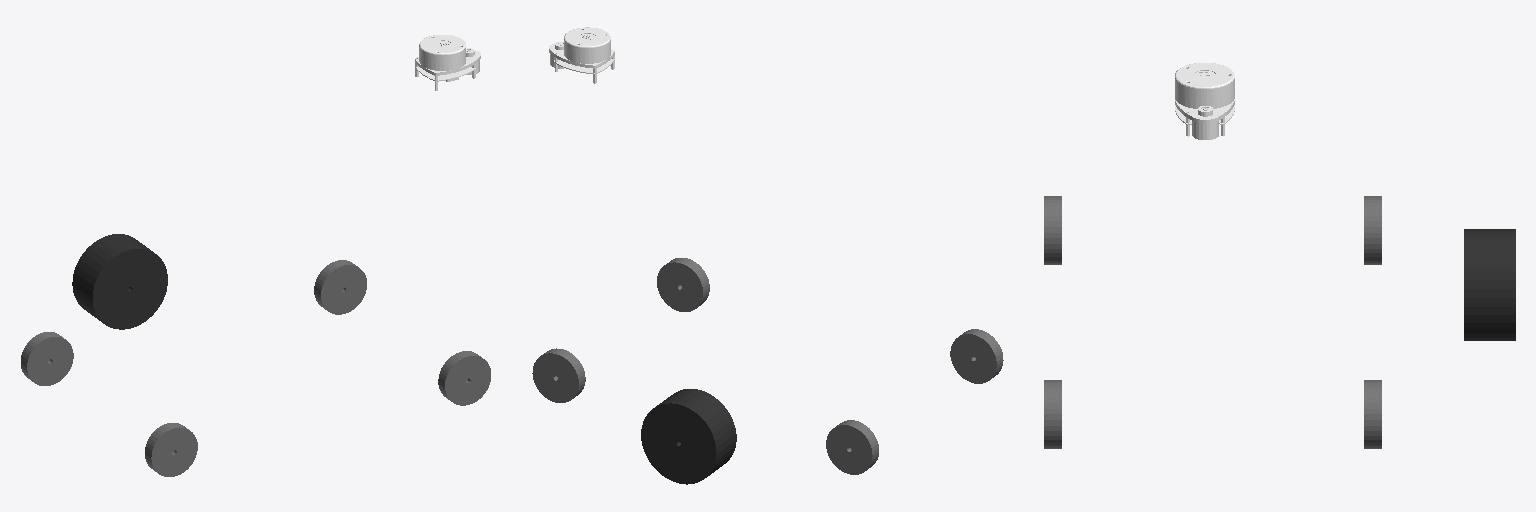
The robot description file, URDF, robot "Chassis_diffrential_assembly_v2.SLDPRT":
<?xml version="1.0" encoding="utf-8"?>
<!-- This URDF was automatically created by SolidWorks to URDF Exporter! Originally created by [author] ([email redacted]) 
     Commit Version: 1.6.0-4-g7f85cfe  Build Version: 1.6.7995.38578
     For more information, please see http://wiki.ros.org/sw_urdf_exporter -->
<robot
  name="Chassis_diffrential_assembly_v2.SLDPRT">
  <link
    name="base_link">
    <inertial>
      <origin
        xyz="0.0080711 0.0008587 0.16048"
        rpy="0 0 0" />
      <mass
        value="30.168" />
      <inertia
        ixx="0.60427"
        ixy="-0.12444"
        ixz="0.010189"
        iyy="1.0841"
        iyz="0.0042376"
        izz="1.4144" />
    </inertial>
    <visual>
      <origin
        xyz="0 0 0"
        rpy="0 0 0" />
      <geometry>
        <mesh
          filename="package://Chassis_diffrential_assembly_v2.SLDPRT/meshes/base_link.STL" />
      </geometry>
      <material
        name="">
        <color
          rgba="0.50196 0.50196 0.50196 1" />
      </material>
    </visual>
    <collision>
      <origin
        xyz="0 0 0"
        rpy="0 0 0" />
      <geometry>
        <mesh
          filename="package://Chassis_diffrential_assembly_v2.SLDPRT/meshes/base_link.STL" />
      </geometry>
    </collision>
  </link>
  <link
    name="LEFT_wheel_drive">
    <inertial>
      <origin
        xyz="0 0 -0.03"
        rpy="0 0 0" />
      <mass
        value="0.79338" />
      <inertia
        ixx="0.0010792"
        ixy="7.3437E-21"
        ixz="-1.0625E-19"
        iyy="0.0010792"
        iyz="-7.2396E-20"
        izz="0.0016824" />
    </inertial>
    <visual>
      <origin
        xyz="0 0 0"
        rpy="0 0 0" />
      <geometry>
        <mesh
          filename="package://Chassis_diffrential_assembly_v2.SLDPRT/meshes/LEFT_wheel_drive.STL" />
      </geometry>
      <material
        name="">
        <color
          rgba="0.25098 0.25098 0.25098 1" />
      </material>
    </visual>
    <collision>
      <origin
        xyz="0 0 0"
        rpy="0 0 0" />
      <geometry>
        <mesh
          filename="package://Chassis_diffrential_assembly_v2.SLDPRT/meshes/LEFT_wheel_drive.STL" />
      </geometry>
    </collision>
  </link>
  <joint
    name="left_wheel_joint"
    type="revolute">
    <origin
      xyz="-0.048718 -0.29 -0.215"
      rpy="1.5708 0 0" />
    <parent
      link="base_link" />
    <child
      link="LEFT_wheel_drive" />
    <axis
      xyz="0 0 -1" />
    <limit
      lower="0"
      upper="0"
      effort="0"
      velocity="0" />
  </joint>
  <link
    name="Right_wheel_drive">
    <inertial>
      <origin
        xyz="2.77555756156289E-17 0 0.03"
        rpy="0 0 0" />
      <mass
        value="0.793377808737566" />
      <inertia
        ixx="0.00107919216433527"
        ixy="7.35016536443278E-21"
        ixz="2.31128990003681E-19"
        iyy="0.00107919216433527"
        iyz="6.91140355312497E-20"
        izz="0.00168235764342801" />
    </inertial>
    <visual>
      <origin
        xyz="0 0 0"
        rpy="0 0 0" />
      <geometry>
        <mesh
          filename="package://Chassis_diffrential_assembly_v2.SLDPRT/meshes/Right_wheel_drive.STL" />
      </geometry>
      <material
        name="">
        <color
          rgba="0.250980392156863 0.250980392156863 0.250980392156863 1" />
      </material>
    </visual>
    <collision>
      <origin
        xyz="0 0 0"
        rpy="0 0 0" />
      <geometry>
        <mesh
          filename="package://Chassis_diffrential_assembly_v2.SLDPRT/meshes/Right_wheel_drive.STL" />
      </geometry>
    </collision>
  </link>
  <joint
    name="Right_wheel_joint"
    type="revolute">
    <origin
      xyz="-0.0487177978870813 0.29 -0.215"
      rpy="1.5707963267949 0 0" />
    <parent
      link="base_link" />
    <child
      link="Right_wheel_drive" />
    <axis
      xyz="0 0 -1" />
    <limit
      lower="0"
      upper="0"
      effort="0"
      velocity="0" />
  </joint>
  <link
    name="LF_caster">
    <inertial>
      <origin
        xyz="0 0 -0.01"
        rpy="0 0 0" />
      <mass
        value="0.099526" />
      <inertia
        ixx="4.3526E-05"
        ixy="-1.2962E-21"
        ixz="1.7775E-21"
        iyy="4.3526E-05"
        iyz="1.823E-22"
        izz="8.0417E-05" />
    </inertial>
    <visual>
      <origin
        xyz="0 0 0"
        rpy="0 0 0" />
      <geometry>
        <mesh
          filename="package://Chassis_diffrential_assembly_v2.SLDPRT/meshes/LF_caster.STL" />
      </geometry>
      <material
        name="">
        <color
          rgba="0.50196 0.50196 0.50196 1" />
      </material>
    </visual>
    <collision>
      <origin
        xyz="0 0 0"
        rpy="0 0 0" />
      <geometry>
        <mesh
          filename="package://Chassis_diffrential_assembly_v2.SLDPRT/meshes/LF_caster.STL" />
      </geometry>
    </collision>
  </link>
  <joint
    name="LF_caster_jont"
    type="revolute">
    <origin
      xyz="-0.252419974626545 -0.195 -0.24"
      rpy="1.5707963267949 0 0" />
    <parent
      link="base_link" />
    <child
      link="LF_caster" />
    <axis
      xyz="0 0 -1" />
    <limit
      lower="0"
      upper="0"
      effort="0"
      velocity="0" />
  </joint>
  <link
    name="RF_caster">
    <inertial>
      <origin
        xyz="0 0 0.01"
        rpy="0 0 0" />
      <mass
        value="0.0995256552657247" />
      <inertia
        ixx="4.35258865695436E-05"
        ixy="-1.29629003215672E-21"
        ixz="6.11428979929594E-21"
        iyy="4.35258865695436E-05"
        iyz="1.62909581375164E-22"
        izz="8.04167294547055E-05" />
    </inertial>
    <visual>
      <origin
        xyz="0 0 0"
        rpy="0 0 0" />
      <geometry>
        <mesh
          filename="package://Chassis_diffrential_assembly_v2.SLDPRT/meshes/RF_caster.STL" />
      </geometry>
      <material
        name="">
        <color
          rgba="0.501960784313725 0.501960784313725 0.501960784313725 1" />
      </material>
    </visual>
    <collision>
      <origin
        xyz="0 0 0"
        rpy="0 0 0" />
      <geometry>
        <mesh
          filename="package://Chassis_diffrential_assembly_v2.SLDPRT/meshes/RF_caster.STL" />
      </geometry>
    </collision>
  </link>
  <joint
    name="RF_caster_joint"
    type="revolute">
    <origin
      xyz="-0.25242 0.195 -0.24"
      rpy="1.5708 0 0" />
    <parent
      link="base_link" />
    <child
      link="RF_caster" />
    <axis
      xyz="0 0 -1" />
    <limit
      lower="0"
      upper="0"
      effort="0"
      velocity="0" />
  </joint>
  <link
    name="LR_Caster">
    <inertial>
      <origin
        xyz="0 0 -0.00999999999999995"
        rpy="0 0 0" />
      <mass
        value="0.0995256552657247" />
      <inertia
        ixx="4.35258865695436E-05"
        ixy="1.29620925280002E-21"
        ixz="6.12311305916317E-21"
        iyy="4.35258865695436E-05"
        iyz="-1.62909581375164E-22"
        izz="8.04167294547056E-05" />
    </inertial>
    <visual>
      <origin
        xyz="0 0 0"
        rpy="0 0 0" />
      <geometry>
        <mesh
          filename="package://Chassis_diffrential_assembly_v2.SLDPRT/meshes/LR_Caster.STL" />
      </geometry>
      <material
        name="">
        <color
          rgba="0.501960784313725 0.501960784313725 0.501960784313725 1" />
      </material>
    </visual>
    <collision>
      <origin
        xyz="0 0 0"
        rpy="0 0 0" />
      <geometry>
        <mesh
          filename="package://Chassis_diffrential_assembly_v2.SLDPRT/meshes/LR_Caster.STL" />
      </geometry>
    </collision>
  </link>
  <joint
    name="LR_Caster_joint"
    type="revolute">
    <origin
      xyz="0.25242 -0.195 -0.24"
      rpy="1.5708 0 0" />
    <parent
      link="base_link" />
    <child
      link="LR_Caster" />
    <axis
      xyz="0 0 1" />
    <limit
      lower="0"
      upper="0"
      effort="0"
      velocity="0" />
  </joint>
  <link
    name="RR_caster">
    <inertial>
      <origin
        xyz="2.77555756156289E-17 0 0.01"
        rpy="0 0 0" />
      <mass
        value="0.0995256552657247" />
      <inertia
        ixx="4.35258865695436E-05"
        ixy="1.29629003215672E-21"
        ixz="1.78627658484092E-21"
        iyy="4.35258865695436E-05"
        iyz="-4.1128303054583E-23"
        izz="8.04167294547056E-05" />
    </inertial>
    <visual>
      <origin
        xyz="0 0 0"
        rpy="0 0 0" />
      <geometry>
        <mesh
          filename="package://Chassis_diffrential_assembly_v2.SLDPRT/meshes/RR_caster.STL" />
      </geometry>
      <material
        name="">
        <color
          rgba="0.501960784313725 0.501960784313725 0.501960784313725 1" />
      </material>
    </visual>
    <collision>
      <origin
        xyz="0 0 0"
        rpy="0 0 0" />
      <geometry>
        <mesh
          filename="package://Chassis_diffrential_assembly_v2.SLDPRT/meshes/RR_caster.STL" />
      </geometry>
    </collision>
  </link>
  <joint
    name="RR_caster_joint"
    type="revolute">
    <origin
      xyz="0.25242 0.195 -0.24"
      rpy="1.5708 0 0" />
    <parent
      link="base_link" />
    <child
      link="RR_caster" />
    <axis
      xyz="0 0 1" />
    <limit
      lower="0"
      upper="0"
      effort="0"
      velocity="0" />
  </joint>
  <link
    name="Left_motor">
    <inertial>
      <origin
        xyz="-1.3878E-17 0.0039017 0.032653"
        rpy="0 0 0" />
      <mass
        value="1.9465" />
      <inertia
        ixx="0.0020859"
        ixy="8.2949E-20"
        ixz="-6.1628E-20"
        iyy="0.0019442"
        iyz="6.1524E-05"
        izz="0.0010535" />
    </inertial>
    <visual>
      <origin
        xyz="0 0 0"
        rpy="0 0 0" />
      <geometry>
        <mesh
          filename="package://Chassis_diffrential_assembly_v2.SLDPRT/meshes/Left_motor.STL" />
      </geometry>
      <material
        name="">
        <color
          rgba="0.52941 0.54902 0.54902 1" />
      </material>
    </visual>
    <collision>
      <origin
        xyz="0 0 0"
        rpy="0 0 0" />
      <geometry>
        <mesh
          filename="package://Chassis_diffrential_assembly_v2.SLDPRT/meshes/Left_motor.STL" />
      </geometry>
    </collision>
  </link>
  <joint
    name="Left_motor_joint"
    type="fixed">
    <origin
      xyz="-0.048718 -0.12931 -0.225"
      rpy="1.5708 0 0" />
    <parent
      link="base_link" />
    <child
      link="Left_motor" />
    <axis
      xyz="0 0 0" />
  </joint>
  <link
    name="Right_motor">
    <inertial>
      <origin
        xyz="-2.77555756156289E-17 0.00390171963174921 -0.0326533283816412"
        rpy="0 0 0" />
      <mass
        value="1.94648139909599" />
      <inertia
        ixx="0.0020859276474203"
        ixy="-2.65946441215283E-19"
        ixz="-5.57311168075214E-19"
        iyy="0.00194416330236325"
        iyz="-6.15235281943915E-05"
        izz="0.00105347397549006" />
    </inertial>
    <visual>
      <origin
        xyz="0 0 0"
        rpy="0 0 0" />
      <geometry>
        <mesh
          filename="package://Chassis_diffrential_assembly_v2.SLDPRT/meshes/Right_motor.STL" />
      </geometry>
      <material
        name="">
        <color
          rgba="0.529411764705882 0.549019607843137 0.549019607843137 1" />
      </material>
    </visual>
    <collision>
      <origin
        xyz="0 0 0"
        rpy="0 0 0" />
      <geometry>
        <mesh
          filename="package://Chassis_diffrential_assembly_v2.SLDPRT/meshes/Right_motor.STL" />
      </geometry>
    </collision>
  </link>
  <joint
    name="Right_motor_joint"
    type="fixed">
    <origin
      xyz="-0.048718 0.12931 -0.225"
      rpy="1.5708 0 0" />
    <parent
      link="base_link" />
    <child
      link="Right_motor" />
    <axis
      xyz="0 0 0" />
  </joint>
  <link
    name="Lidar">
    <inertial>
      <origin
        xyz="0 0 0"
        rpy="0 0 0" />
      <mass
        value="0" />
      <inertia
        ixx="0"
        ixy="0"
        ixz="0"
        iyy="0"
        iyz="0"
        izz="0" />
    </inertial>
    <visual>
      <origin
        xyz="0 0 0"
        rpy="0 0 0" />
      <geometry>
        <mesh
          filename="package://Chassis_diffrential_assembly_v2.SLDPRT/meshes/Lidar.STL" />
      </geometry>
      <material
        name="">
        <color
          rgba="1 1 1 1" />
      </material>
    </visual>
    <collision>
      <origin
        xyz="0 0 0"
        rpy="0 0 0" />
      <geometry>
        <mesh
          filename="package://Chassis_diffrential_assembly_v2.SLDPRT/meshes/Lidar.STL" />
      </geometry>
    </collision>
  </link>
  <joint
    name="Lidar"
    type="fixed">
    <origin
      xyz="0.31569 -0.0093261 0.22363"
      rpy="0 0 0" />
    <parent
      link="base_link" />
    <child
      link="Lidar" />
    <axis
      xyz="0 0 0" />
  </joint>
</robot>

--- Render facts (derived) ---
Views: 3 orthographic renders of the robot side by side, from view 1: azimuth 30°, elevation 25°; view 2: azimuth 150°, elevation 25°; view 3: azimuth 270°, elevation 25°.
Robot: Chassis_diffrential_assembly_v2.SLDPRT — 10 links, 9 joints (6 revolute, 3 fixed); root link base_link; default pose: every joint at zero.
Links seen in each view (by area): view 1: Right_wheel_drive, Lidar, LR_Caster, RR_caster, LF_caster, RF_caster; view 2: Right_wheel_drive, Lidar, RF_caster, LF_caster, LR_Caster, RR_caster; view 3: Right_wheel_drive, Lidar, LF_caster, RF_caster, LR_Caster, RR_caster.
Boxes of the visible links, <box> form: Right_wheel_drive: <box>72,234,167,329</box>; Lidar: <box>415,35,480,90</box>; LR_Caster: <box>438,351,490,405</box>; RR_caster: <box>314,260,366,314</box>; LF_caster: <box>145,423,197,476</box>; RF_caster: <box>21,332,73,385</box>; Right_wheel_drive: <box>641,389,736,484</box>; Lidar: <box>549,27,614,83</box>; RF_caster: <box>826,420,878,474</box>; LF_caster: <box>950,329,1003,383</box>; LR_Caster: <box>657,258,709,311</box>; RR_caster: <box>532,348,585,402</box>; Right_wheel_drive: <box>1464,229,1515,340</box>; Lidar: <box>1175,63,1234,139</box>; LF_caster: <box>1044,196,1061,264</box>; RF_caster: <box>1364,196,1381,264</box>; LR_Caster: <box>1044,380,1061,448</box>; RR_caster: <box>1364,380,1381,448</box>.
Bounding box of the posed robot: 0.6716 × 0.545 × 0.5036 m (x, y, z).
Meshes: 10 distinct files referenced, 6 mesh visuals loaded (6 binary STL); not drawn: 4 (reference not matched to a file when rendering).